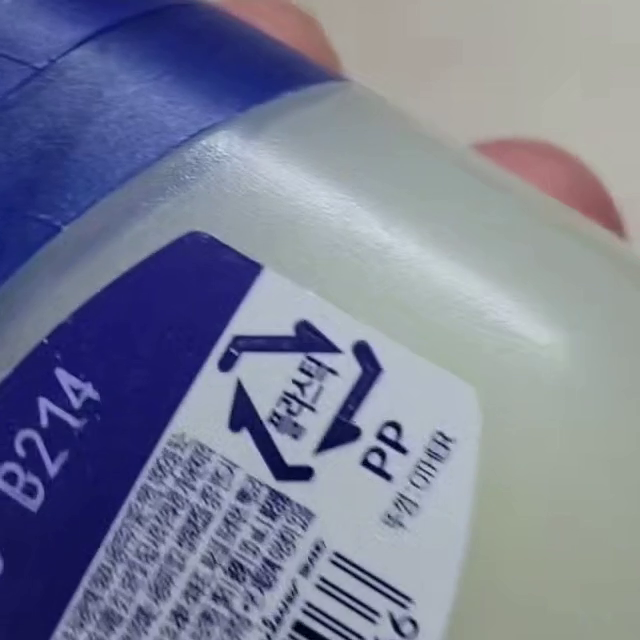Plastic: (215, 321, 384, 483)
